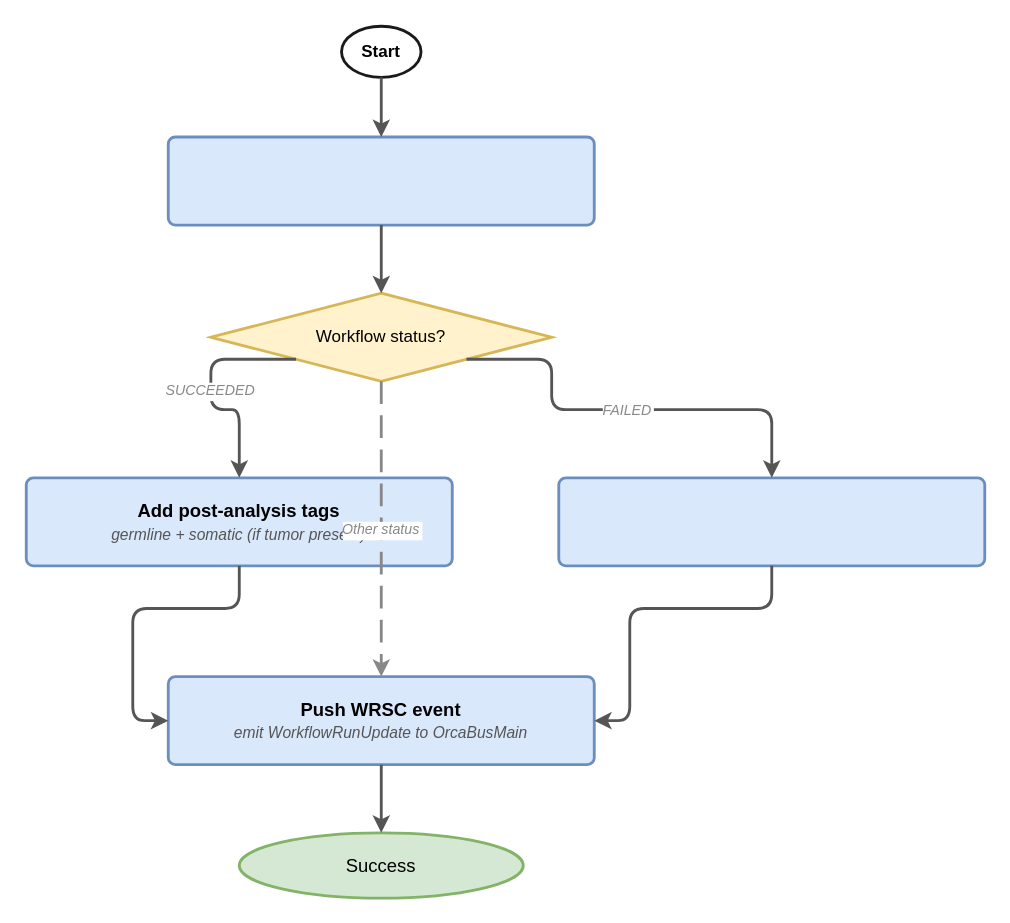
This 1010x923 diagram has some shape labels left out. The shapes that lost their labels are listed below. From the top down, each one's centre as x and y in pixels, then its label:
At (x=380, y=180): "Convert ICAv2 WES event to WRSC map ICAv2 status → WorkflowRunStateChange".
At (x=771, y=521): "Add failure comment write error to workflow run record".
